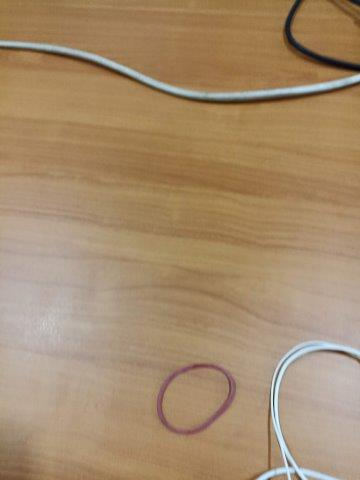karet: (156, 363, 236, 435)
